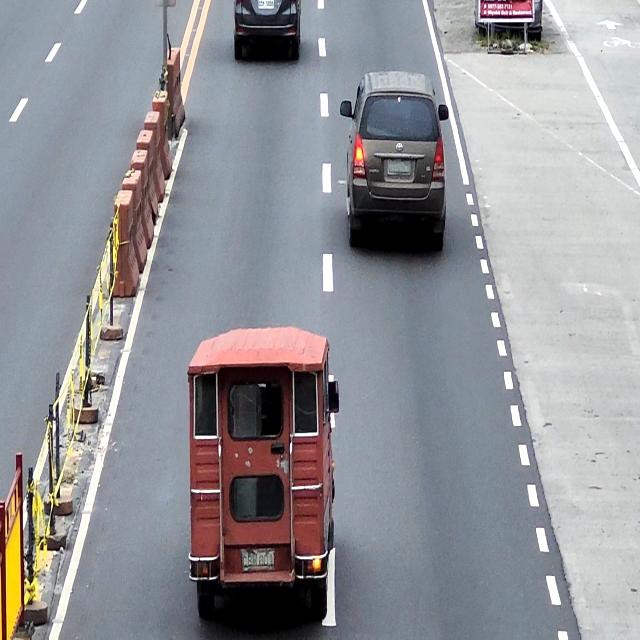Car: (340, 70, 450, 252), (234, 0, 302, 64)
Jeep: (188, 324, 340, 622)
License-Plate: (241, 550, 275, 572), (387, 159, 411, 174), (257, 0, 275, 9)
